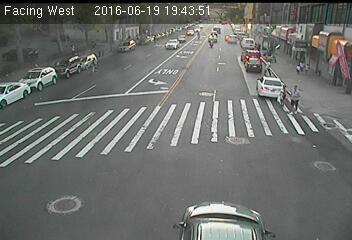neg: (206, 32, 218, 49), (120, 37, 131, 52), (100, 28, 110, 41), (97, 49, 106, 60)
pos: (283, 80, 307, 112), (273, 81, 293, 107), (297, 58, 308, 72), (295, 63, 303, 75), (304, 61, 312, 71)
